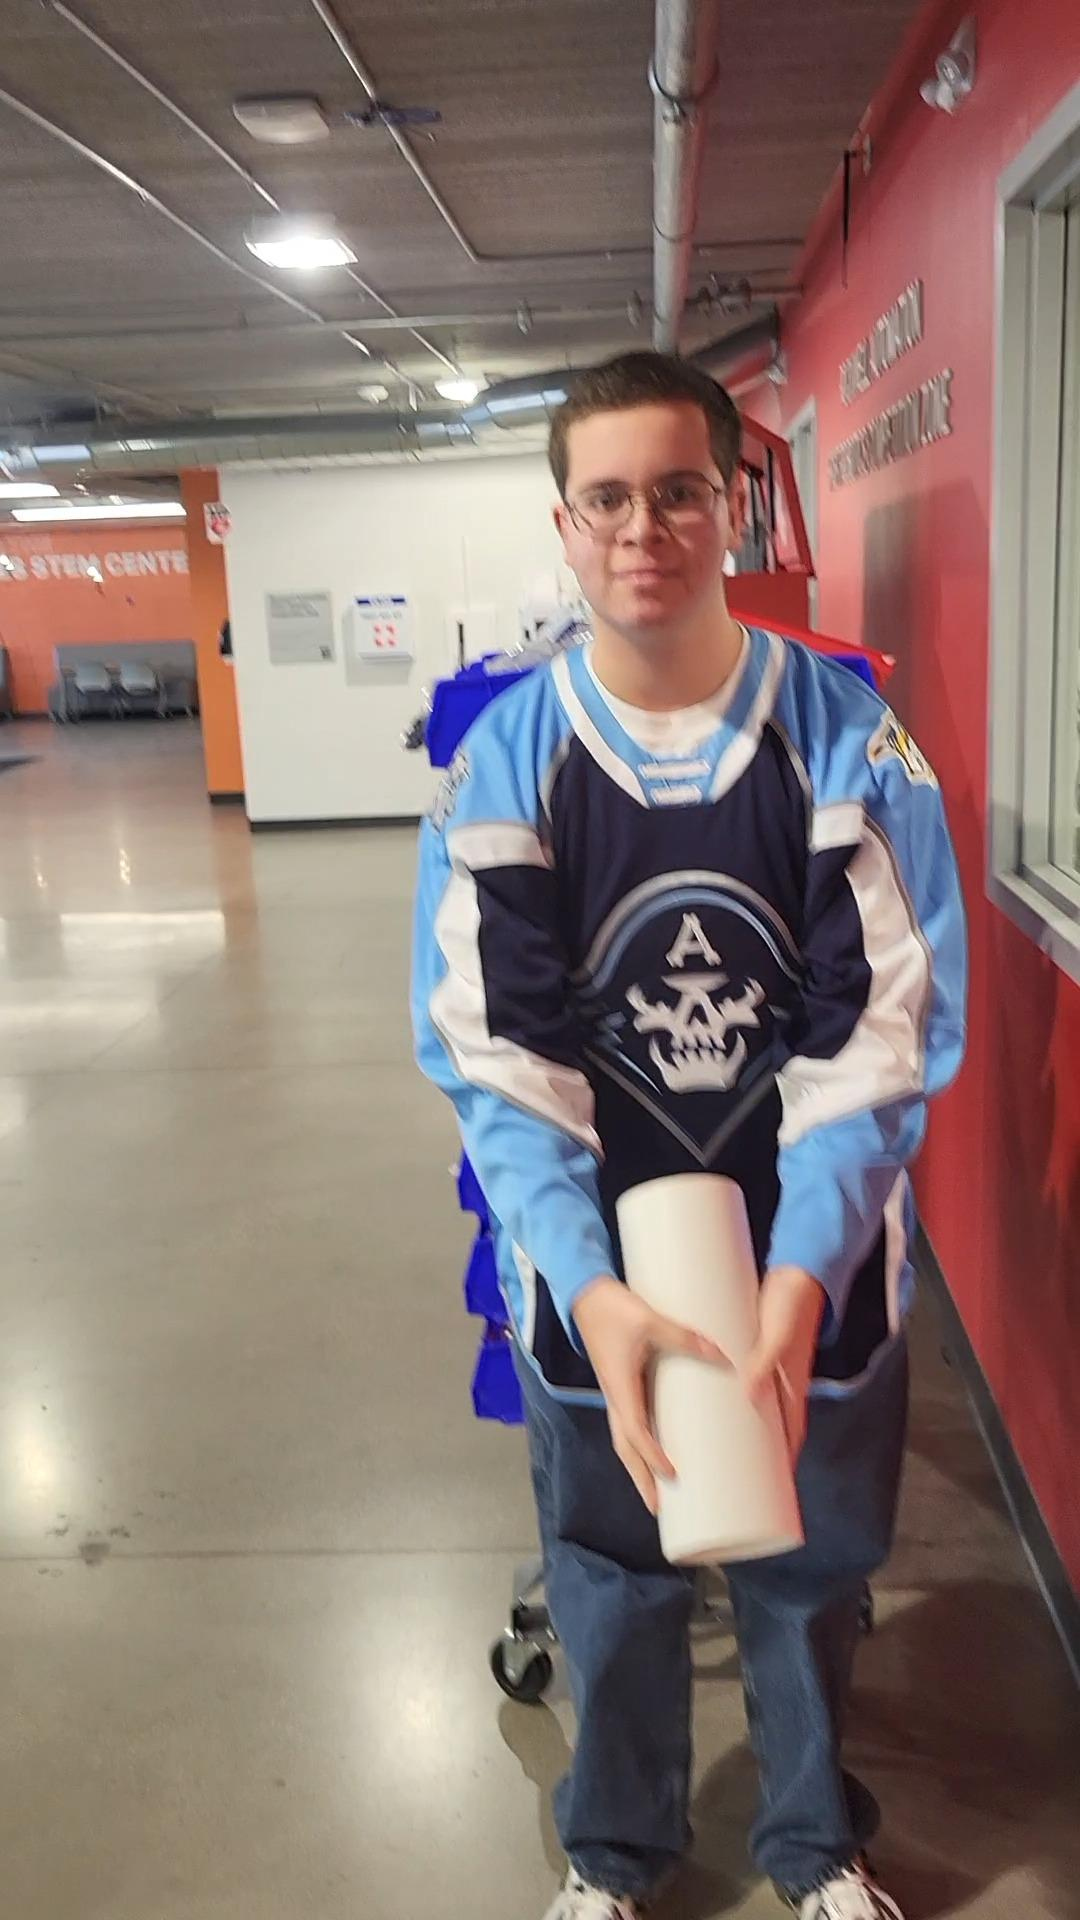coral: (611, 1160, 823, 1577)
